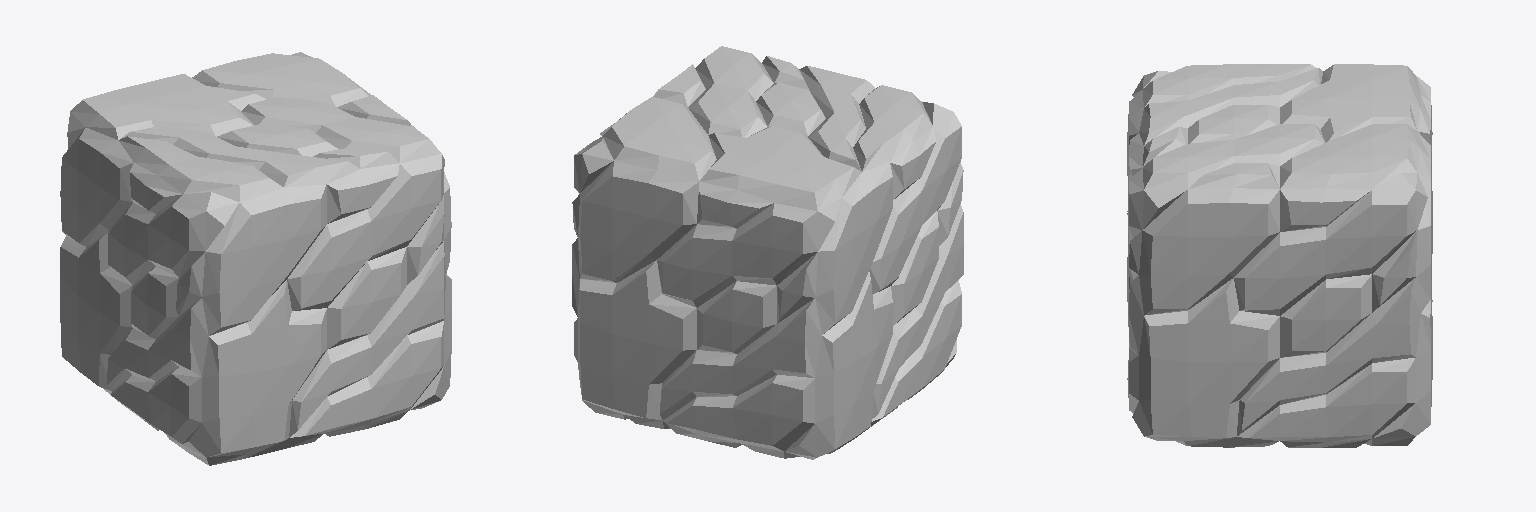
Rendered from stone_with_copper.obj.
3 renders of one model, left to right at view 1: azimuth 30°, elevation 25°; view 2: azimuth 150°, elevation 25°; view 3: azimuth 270°, elevation 25°, orthographic.
Visible parts, largest first — view 1: stone_with_copper; view 2: stone_with_copper; view 3: stone_with_copper.
Part boxes in pixels (x1,y1,x2,y2): stone_with_copper: (60, 52, 451, 465); stone_with_copper: (572, 46, 963, 459); stone_with_copper: (1127, 64, 1432, 447).
Bounding box in the file's own units: 2 × 2 × 2.